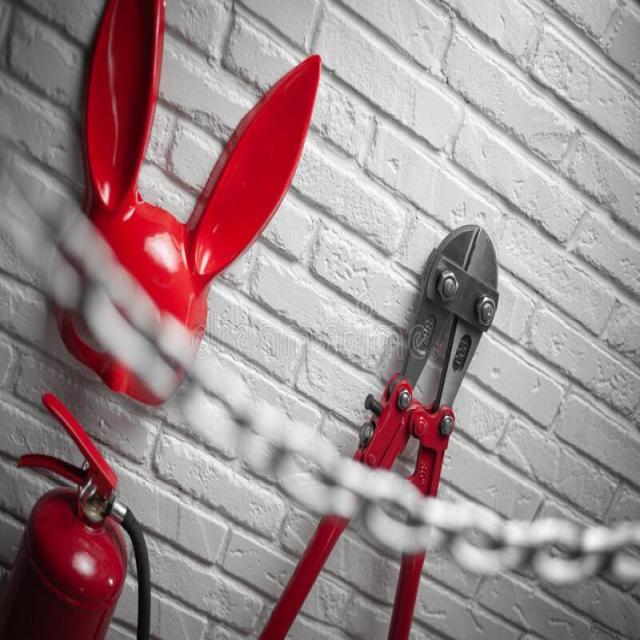fire_extinguisher: (0, 387, 154, 639)
